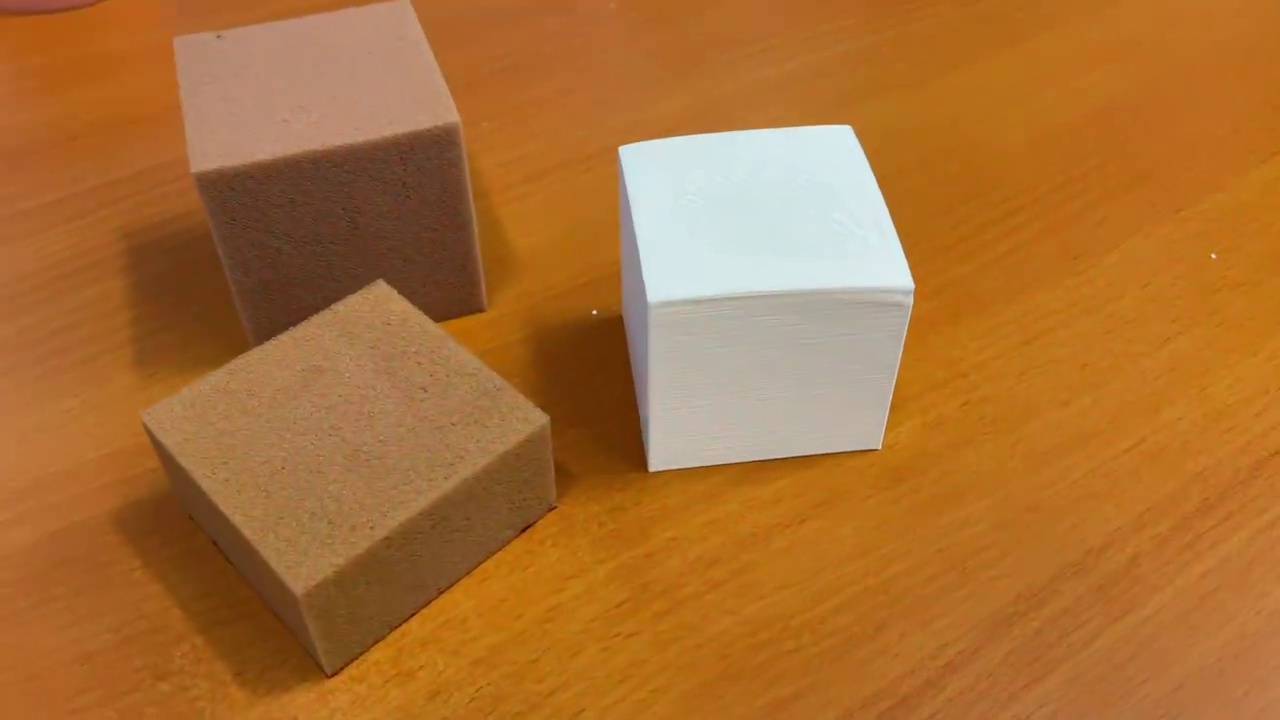Cube: (169, 1, 496, 351), (612, 121, 917, 478)
Cube_short: (134, 271, 564, 681)
